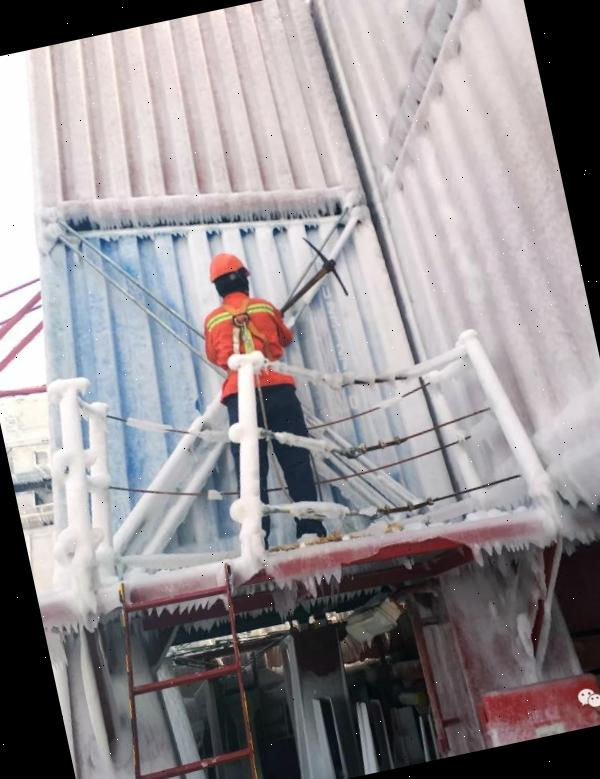helmet: (204, 243, 256, 292)
wear: (200, 292, 294, 396)
